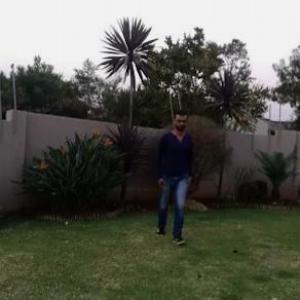follow: (156, 113, 191, 234)
